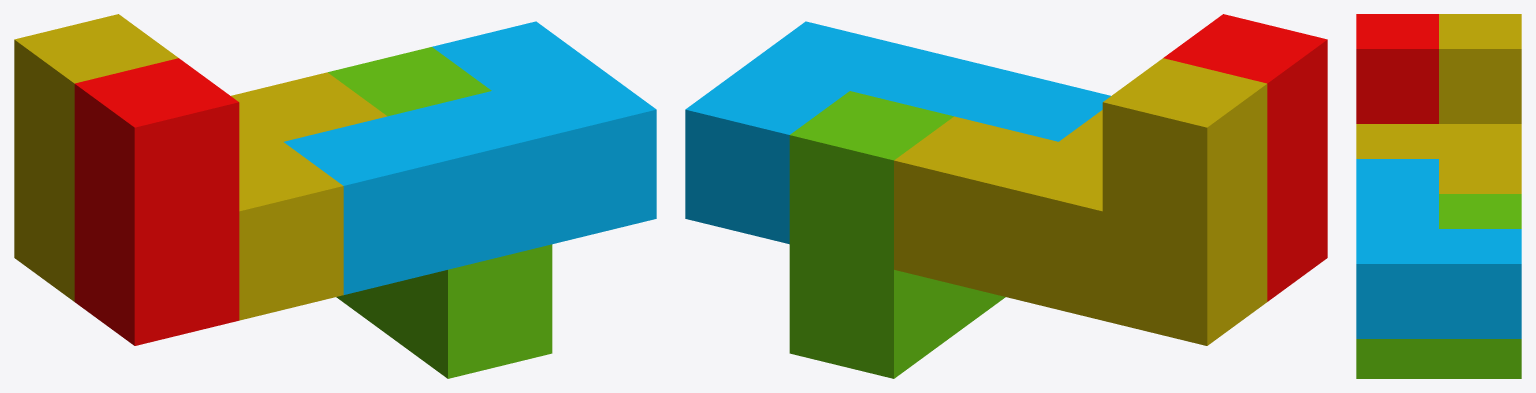
The picture shows the model from 3 angles, left to right: view 1: azimuth 30°, elevation 25°; view 2: azimuth 150°, elevation 25°; view 3: azimuth 270°, elevation 25°; orthographic projection. The views are drawn at different scales.
Parts seen in each view (by area): view 1: mergedBlocks(Clone); view 2: mergedBlocks(Clone); view 3: mergedBlocks(Clone).
Part boxes in pixels (x1,y1,x2,y2): mergedBlocks(Clone): (14,14,656,378); mergedBlocks(Clone): (685,14,1327,378); mergedBlocks(Clone): (1356,14,1521,378).
Size of the model in its own units: 5 by 3 by 2.
4 materials, 4 textured.
